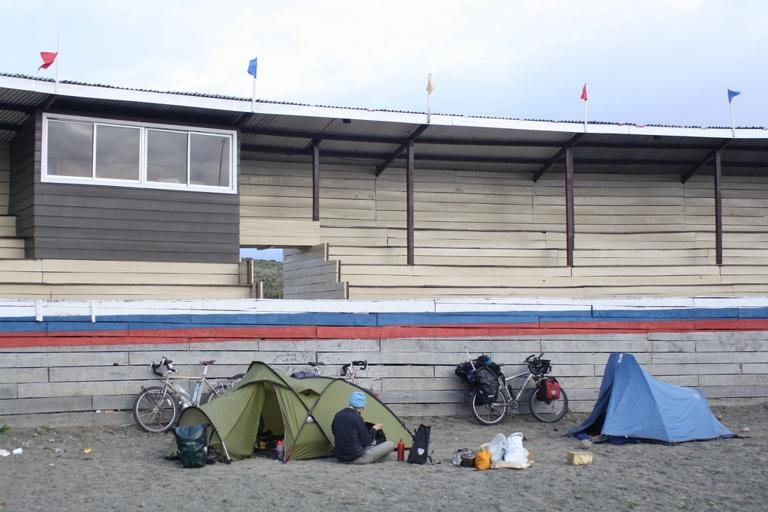non-vehicle: (130, 355, 246, 434), (466, 351, 570, 426), (304, 357, 368, 384)
